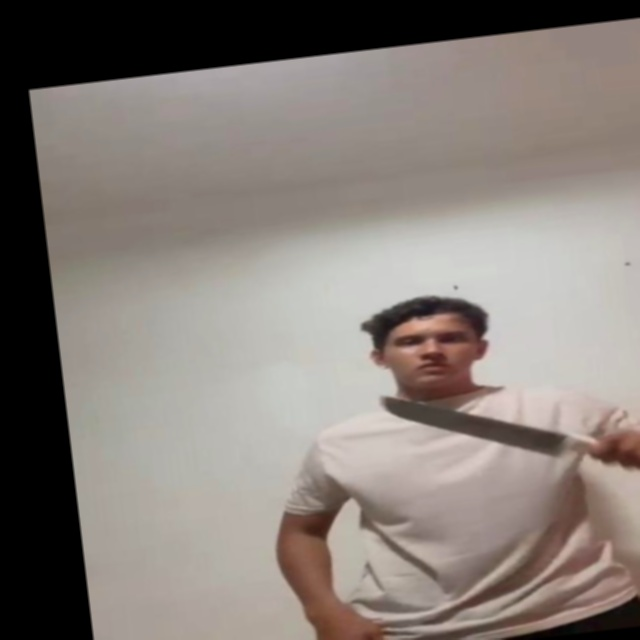Sharp-Object: (377, 376, 561, 470)
